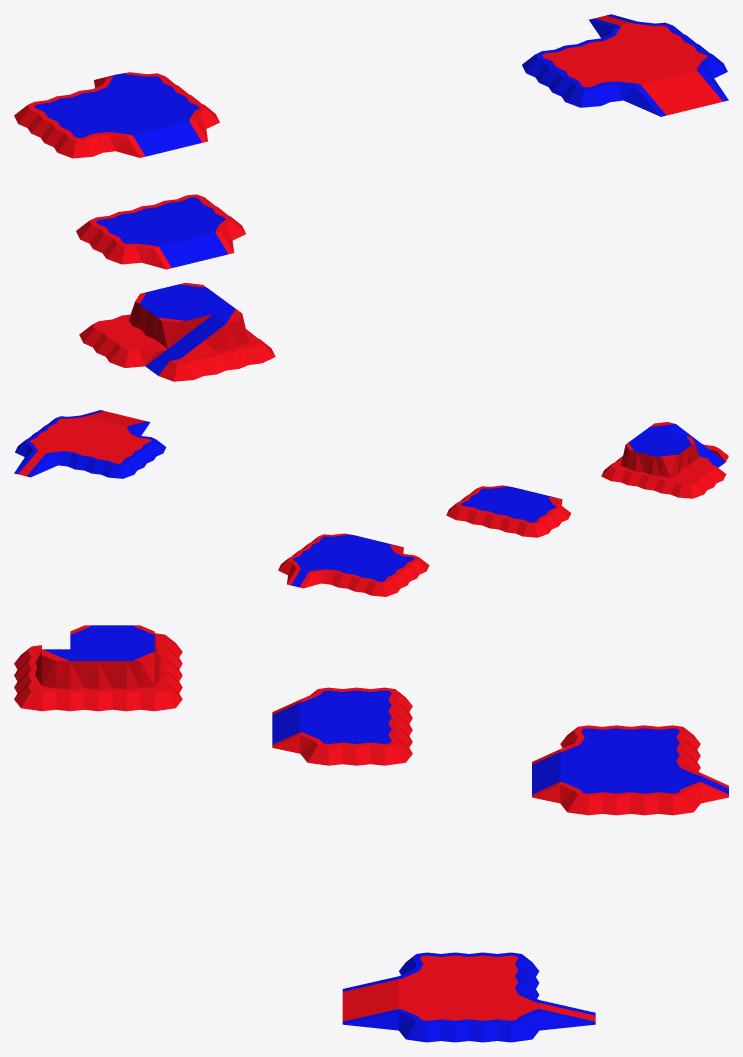
Rendered from mesa.fbx.
3 views of the same model, one above another, from view 1: azimuth 30°, elevation 25°; view 2: azimuth 150°, elevation 25°; view 3: azimuth 270°, elevation 25° (orthographic). The views are drawn at different scales.
Parts seen in each view (by area): view 1: mesa-big-ramps, mesa-small-ramps, mesa-double, mesa-flat-face; view 2: mesa-big-ramps, mesa-small-ramps, mesa-double, mesa-flat-face; view 3: mesa-big-ramps, mesa-small-ramps, mesa-double, mesa-flat-face.
Part boxes in pixels (bbox=[...]): mesa-big-ramps: bbox=[522, 14, 728, 116]; mesa-small-ramps: bbox=[14, 72, 219, 158]; mesa-double: bbox=[79, 282, 275, 381]; mesa-flat-face: bbox=[76, 194, 245, 269]; mesa-big-ramps: bbox=[14, 410, 166, 478]; mesa-small-ramps: bbox=[278, 533, 429, 596]; mesa-double: bbox=[601, 422, 728, 498]; mesa-flat-face: bbox=[446, 485, 571, 537]; mesa-big-ramps: bbox=[342, 952, 595, 1042]; mesa-small-ramps: bbox=[532, 725, 728, 815]; mesa-double: bbox=[14, 625, 182, 711]; mesa-flat-face: bbox=[272, 687, 412, 765].
Size of the model in its own units: 3387 by 150 by 2542.
